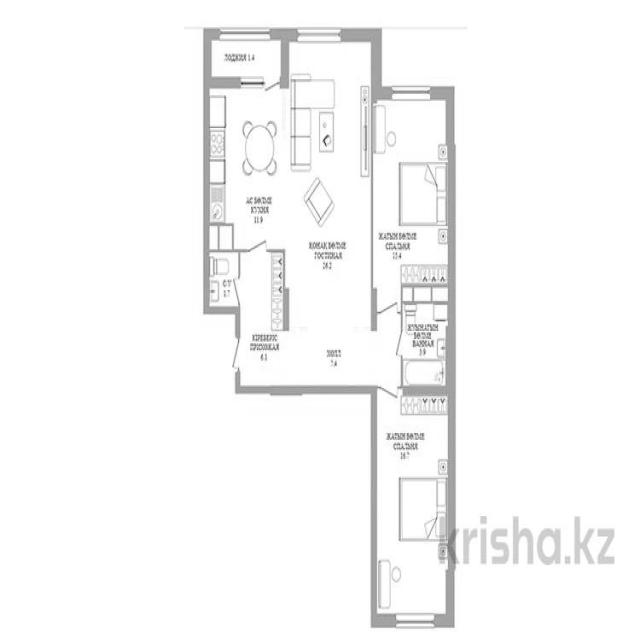balcony: (208, 36, 282, 81)
bathroom: (401, 298, 450, 392), (208, 261, 240, 307)
hallway: (288, 322, 374, 393), (240, 255, 284, 390)
kitchen: (207, 80, 285, 254)
living_room: (286, 34, 374, 318), (375, 387, 452, 622), (371, 84, 456, 286)
